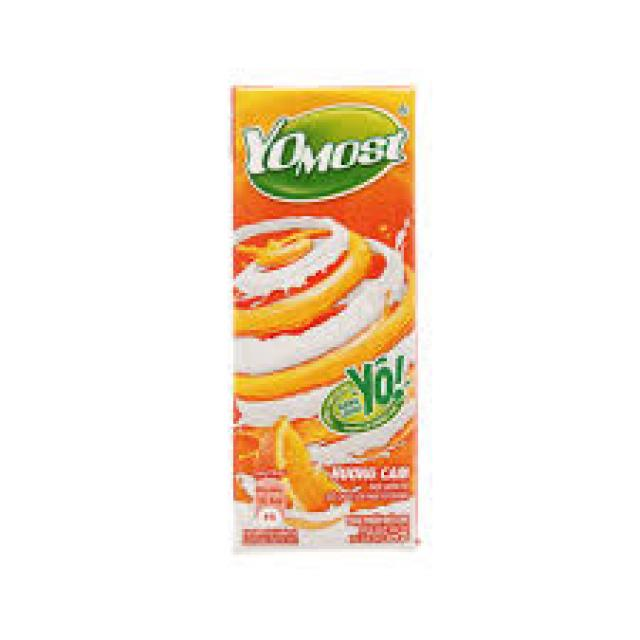non_white_jug: (196, 66, 447, 554)
